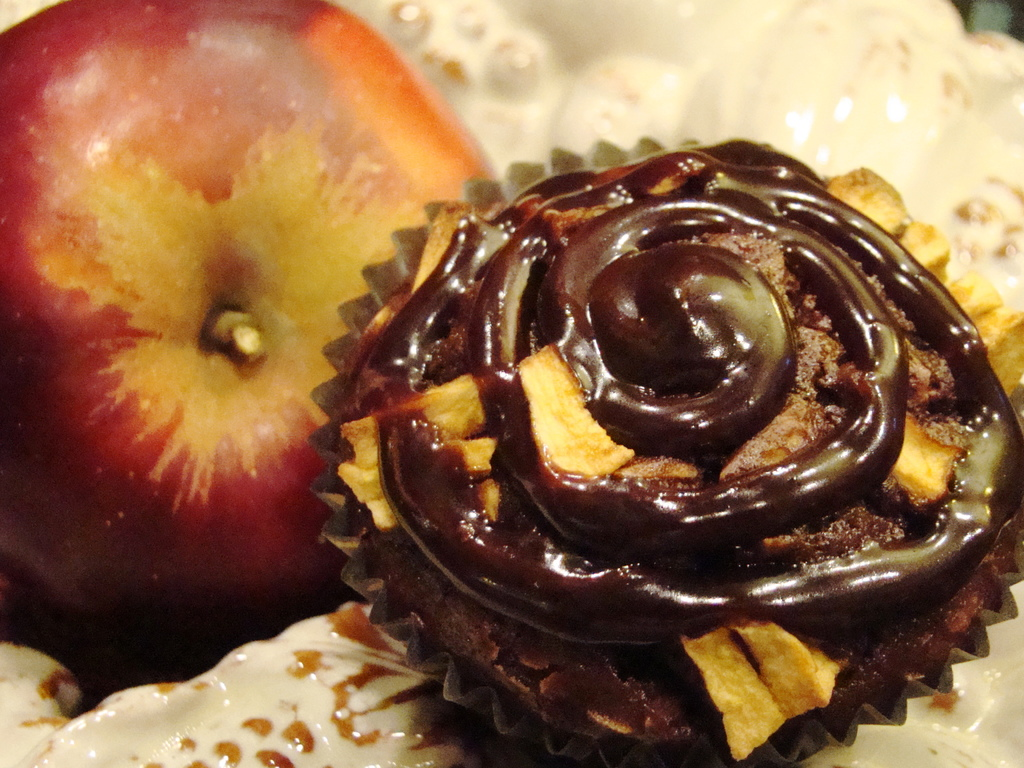Apple: (0, 0, 494, 695)
